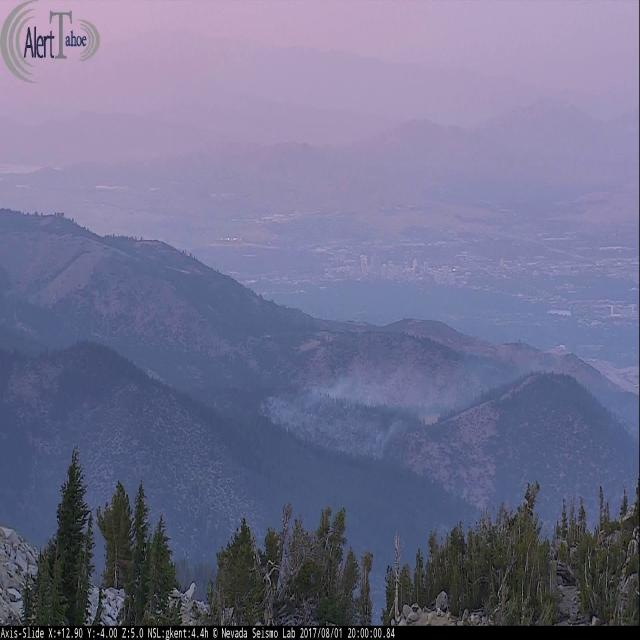smoke: (264, 346, 545, 462)
